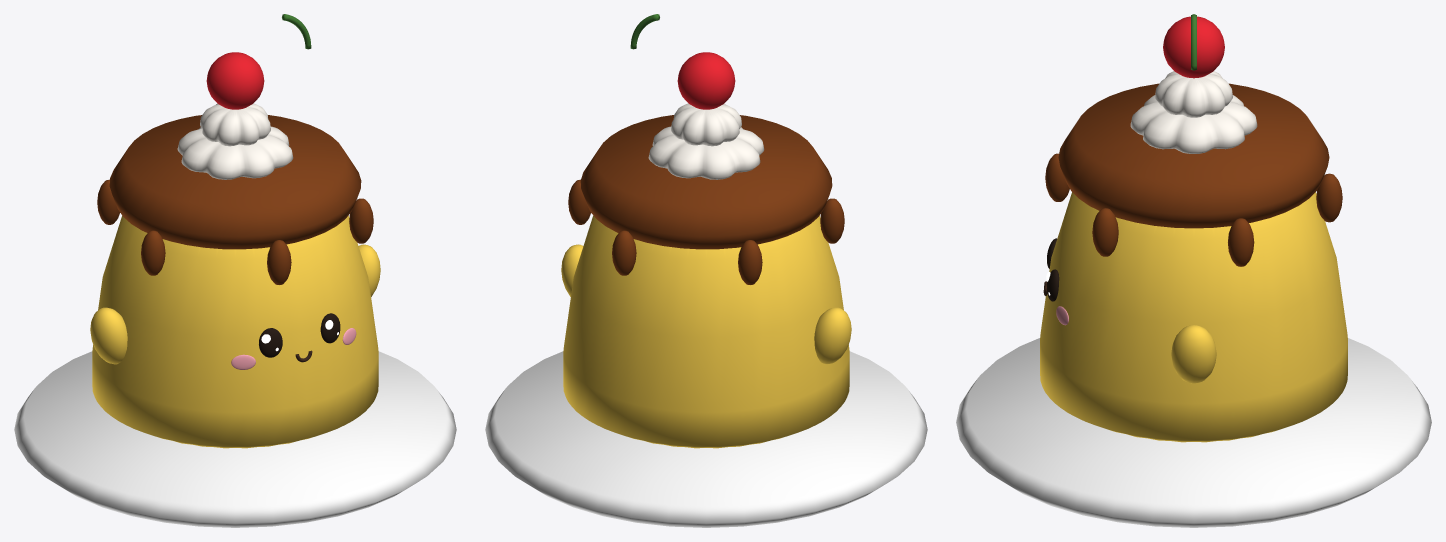
The model's file is pudding.glb.
The picture shows the model from 3 angles, left to right: view 1: azimuth 30°, elevation 25°; view 2: azimuth 150°, elevation 25°; view 3: azimuth 270°, elevation 25°; orthographic projection. The views are drawn at different scales.
Visible parts, largest first — view 1: pudding; view 2: pudding; view 3: pudding.
Boxes of the visible parts, x1,y1,x2,y2 form: pudding: (14,14,456,527); pudding: (485,14,927,527); pudding: (956,14,1431,527).
Bounding box in the file's own units: 0.092 × 0.0951 × 0.092.
